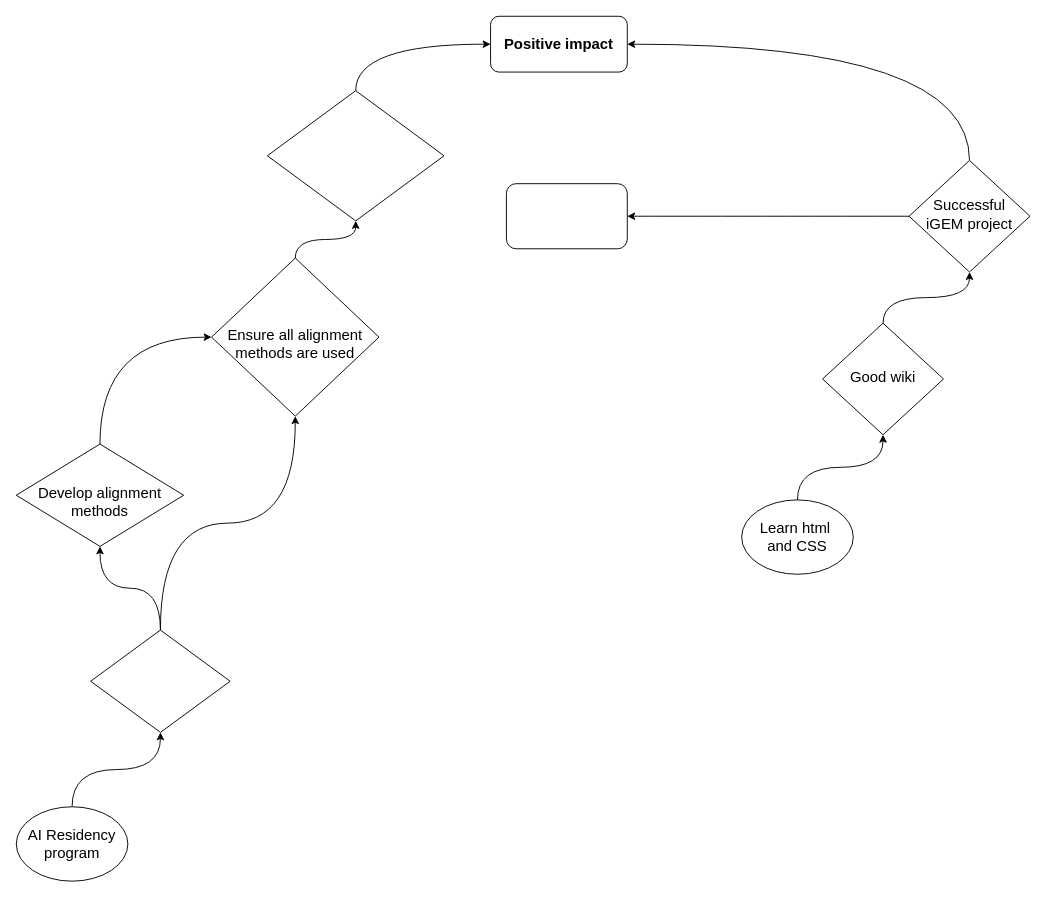
This 1046x897 diagram has some shape labels left out. Here are the shapes that lost their labels. From the top down, the centre of each, then its label:
(x=355, y=155): Fix AI alignment
(x=566, y=216): Attain knowledge and experience
(x=160, y=680): Learn about A, heloI
